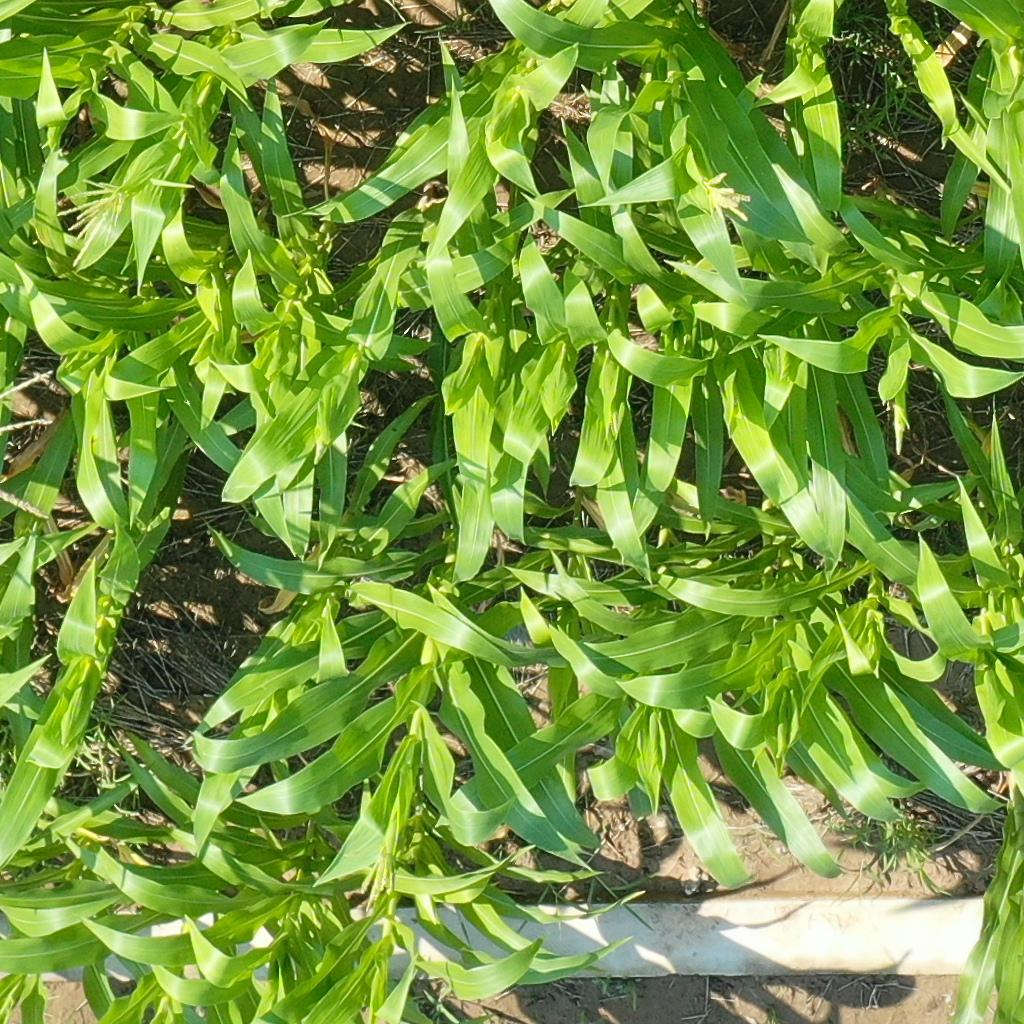Tassel: (50, 175, 126, 269), (697, 166, 753, 226), (356, 855, 399, 914), (887, 404, 909, 453)
